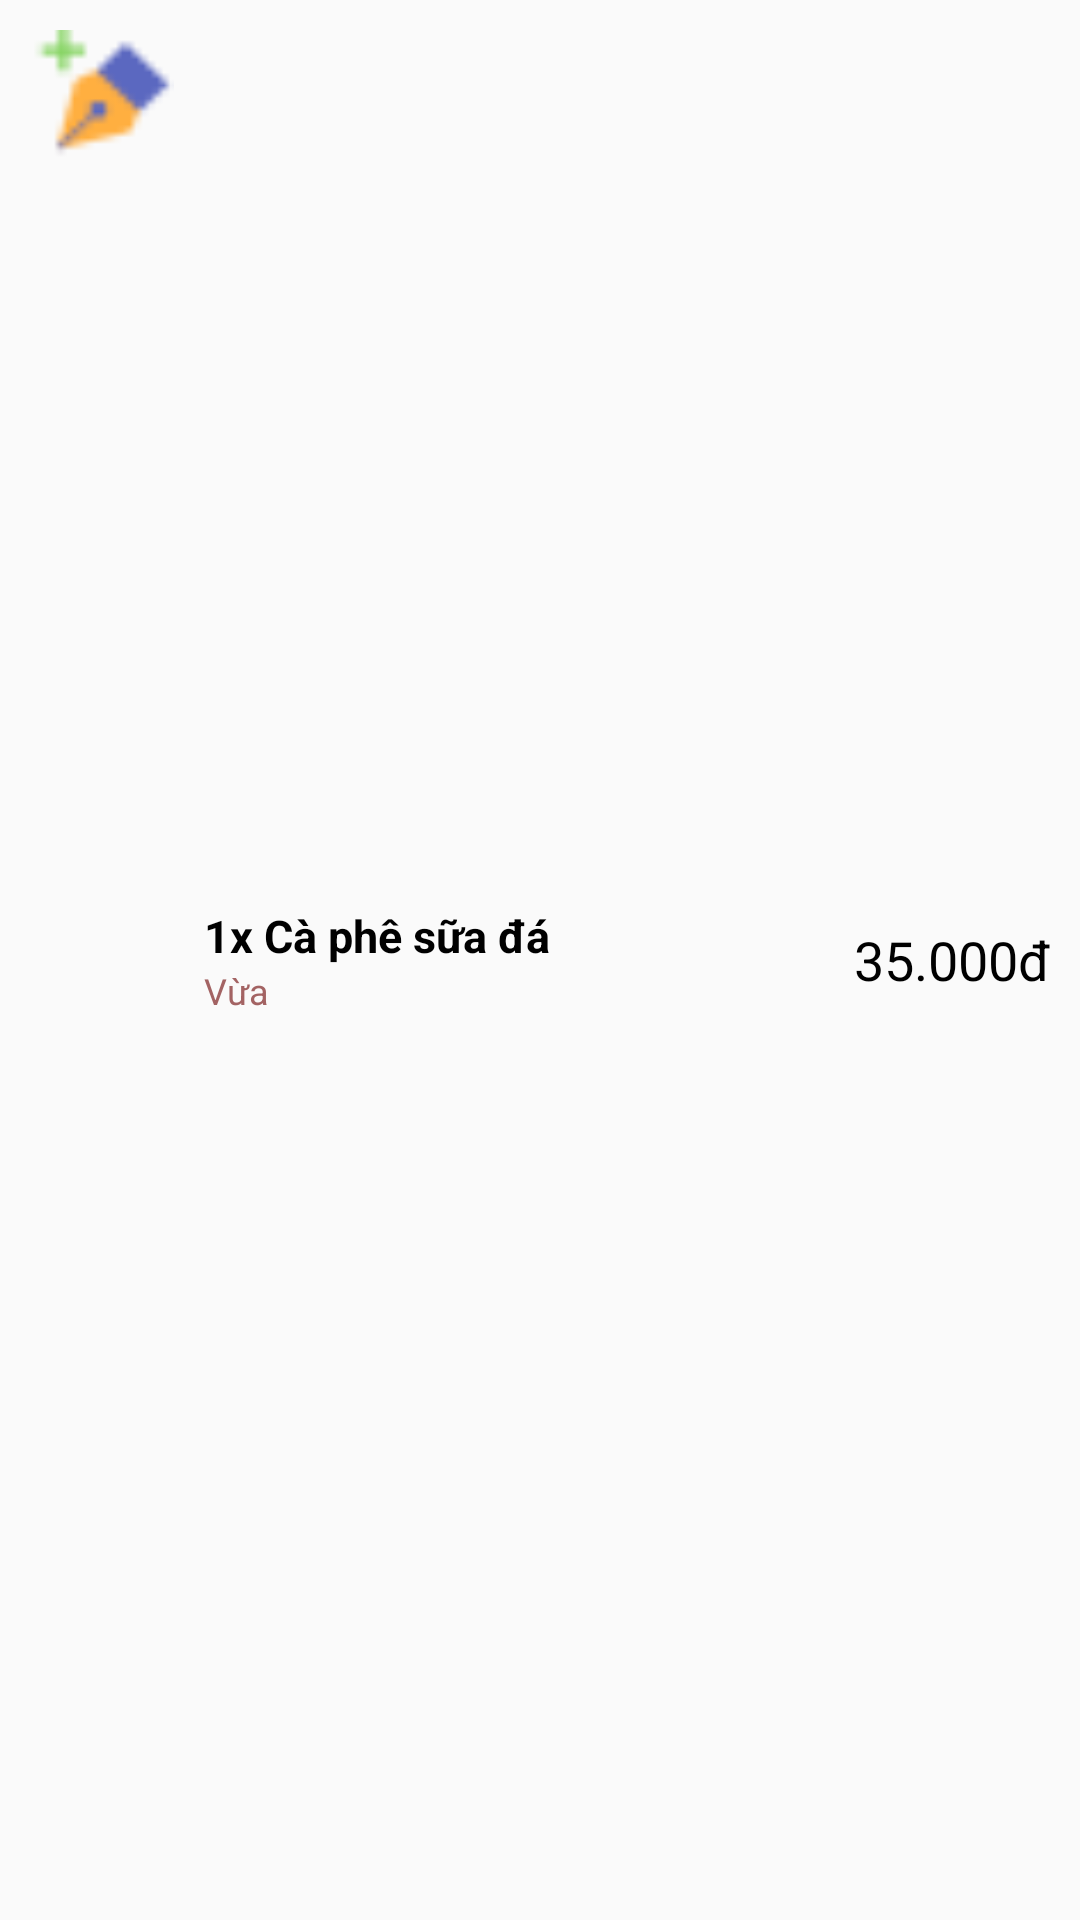

Named icons in this screenshot (1080 x 1920) and their bounding boxes, bbox=[x1, y1, x2, y2]:
pen add: bbox=[39, 30, 170, 150]
